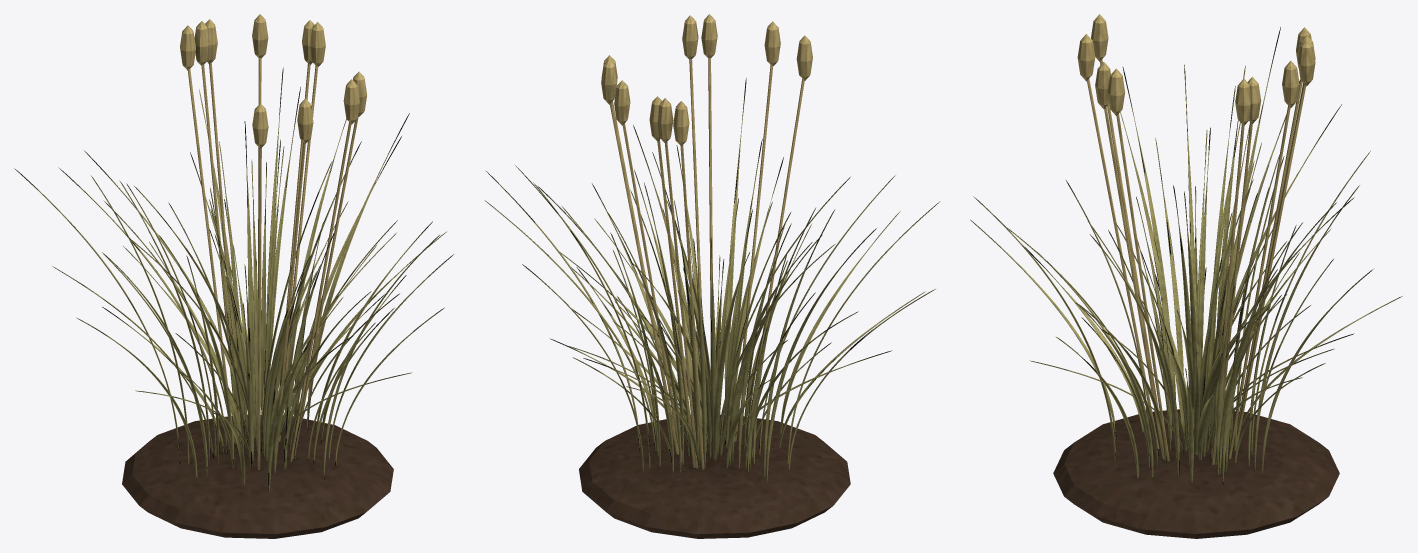
Rendered from dry-seed-heads.glb.
3 views of the same model, side by side, from view 1: azimuth 30°, elevation 25°; view 2: azimuth 150°, elevation 25°; view 3: azimuth 270°, elevation 25° (orthographic). The views are drawn at different scales.
Visible parts, largest first — view 1: grass_blades, soil, straw; view 2: grass_blades, soil, straw; view 3: grass_blades, soil, straw.
Boxes of the visible parts, x1,y1,x2,y2 form: grass_blades: (14, 67, 453, 493); soil: (122, 414, 393, 538); straw: (180, 14, 366, 470); grass_blades: (484, 78, 940, 482); soil: (579, 414, 850, 538); straw: (601, 14, 812, 469); grass_blades: (970, 27, 1402, 484); soil: (1053, 409, 1339, 538); straw: (1077, 14, 1315, 465).
Size of the model in its own units: 0.6472 by 0.6935 by 0.5904.
Materials: 3 (3 with a texture image).
